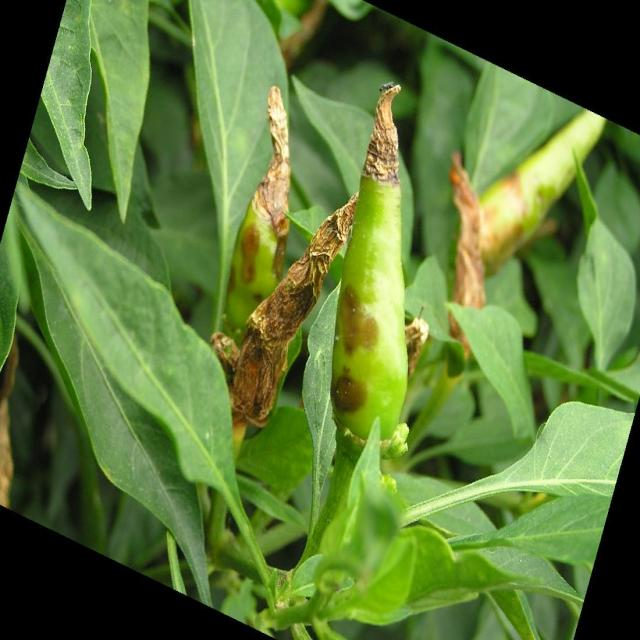Moko: (219, 206, 364, 430)
